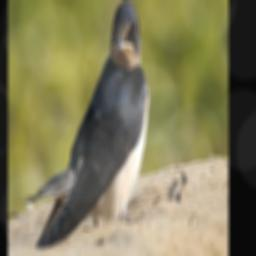Swallow: (21, 0, 150, 248)
